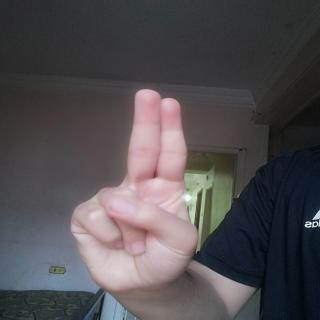TA: (59, 80, 204, 288)
